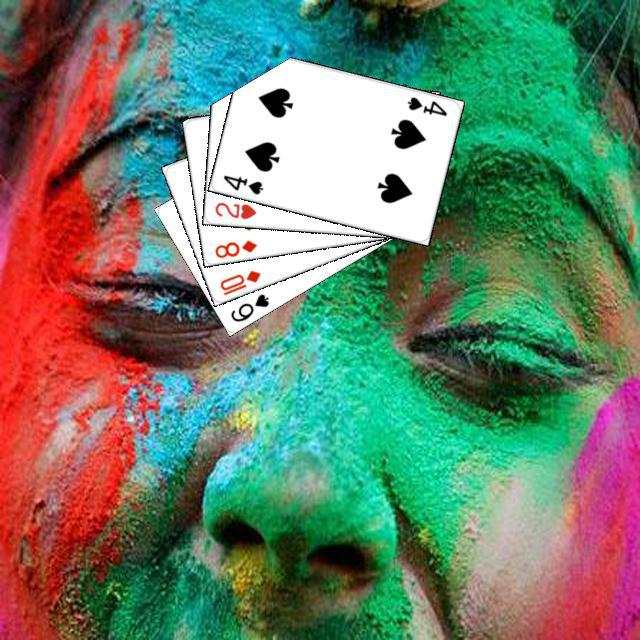10d: (215, 265, 262, 297)
2h: (210, 197, 258, 221)
4s: (218, 170, 265, 196), (402, 92, 449, 118)
6s: (225, 289, 271, 324)
8d: (210, 235, 258, 260)
